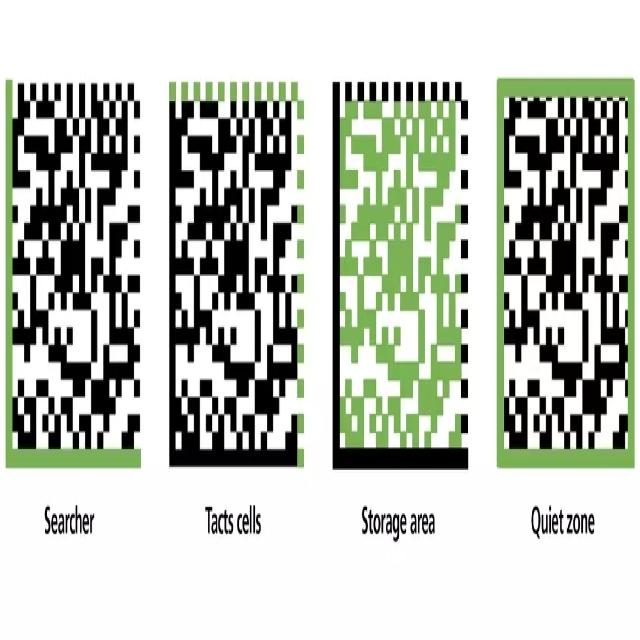datamatrix: (496, 70, 637, 477), (330, 77, 470, 478), (166, 85, 306, 476), (6, 83, 141, 470)
